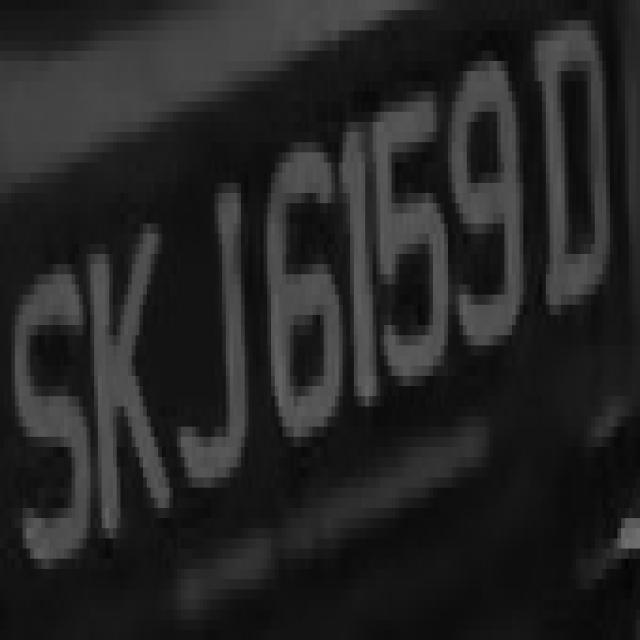1: (328, 132, 384, 457)
5: (372, 71, 452, 386)
6: (264, 163, 346, 457)
9: (444, 10, 524, 376)
D: (527, 31, 629, 356)
J: (181, 132, 252, 518)
K: (90, 203, 170, 569)
S: (15, 213, 90, 590)
